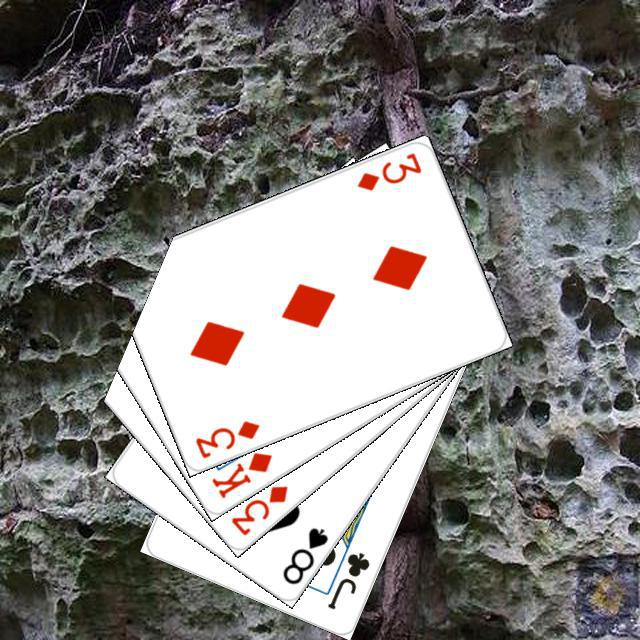3d: (226, 480, 290, 537), (352, 147, 424, 193), (190, 415, 262, 460)
8s: (277, 522, 330, 587)
Jc: (322, 547, 372, 612)
Kd: (206, 447, 274, 500)
